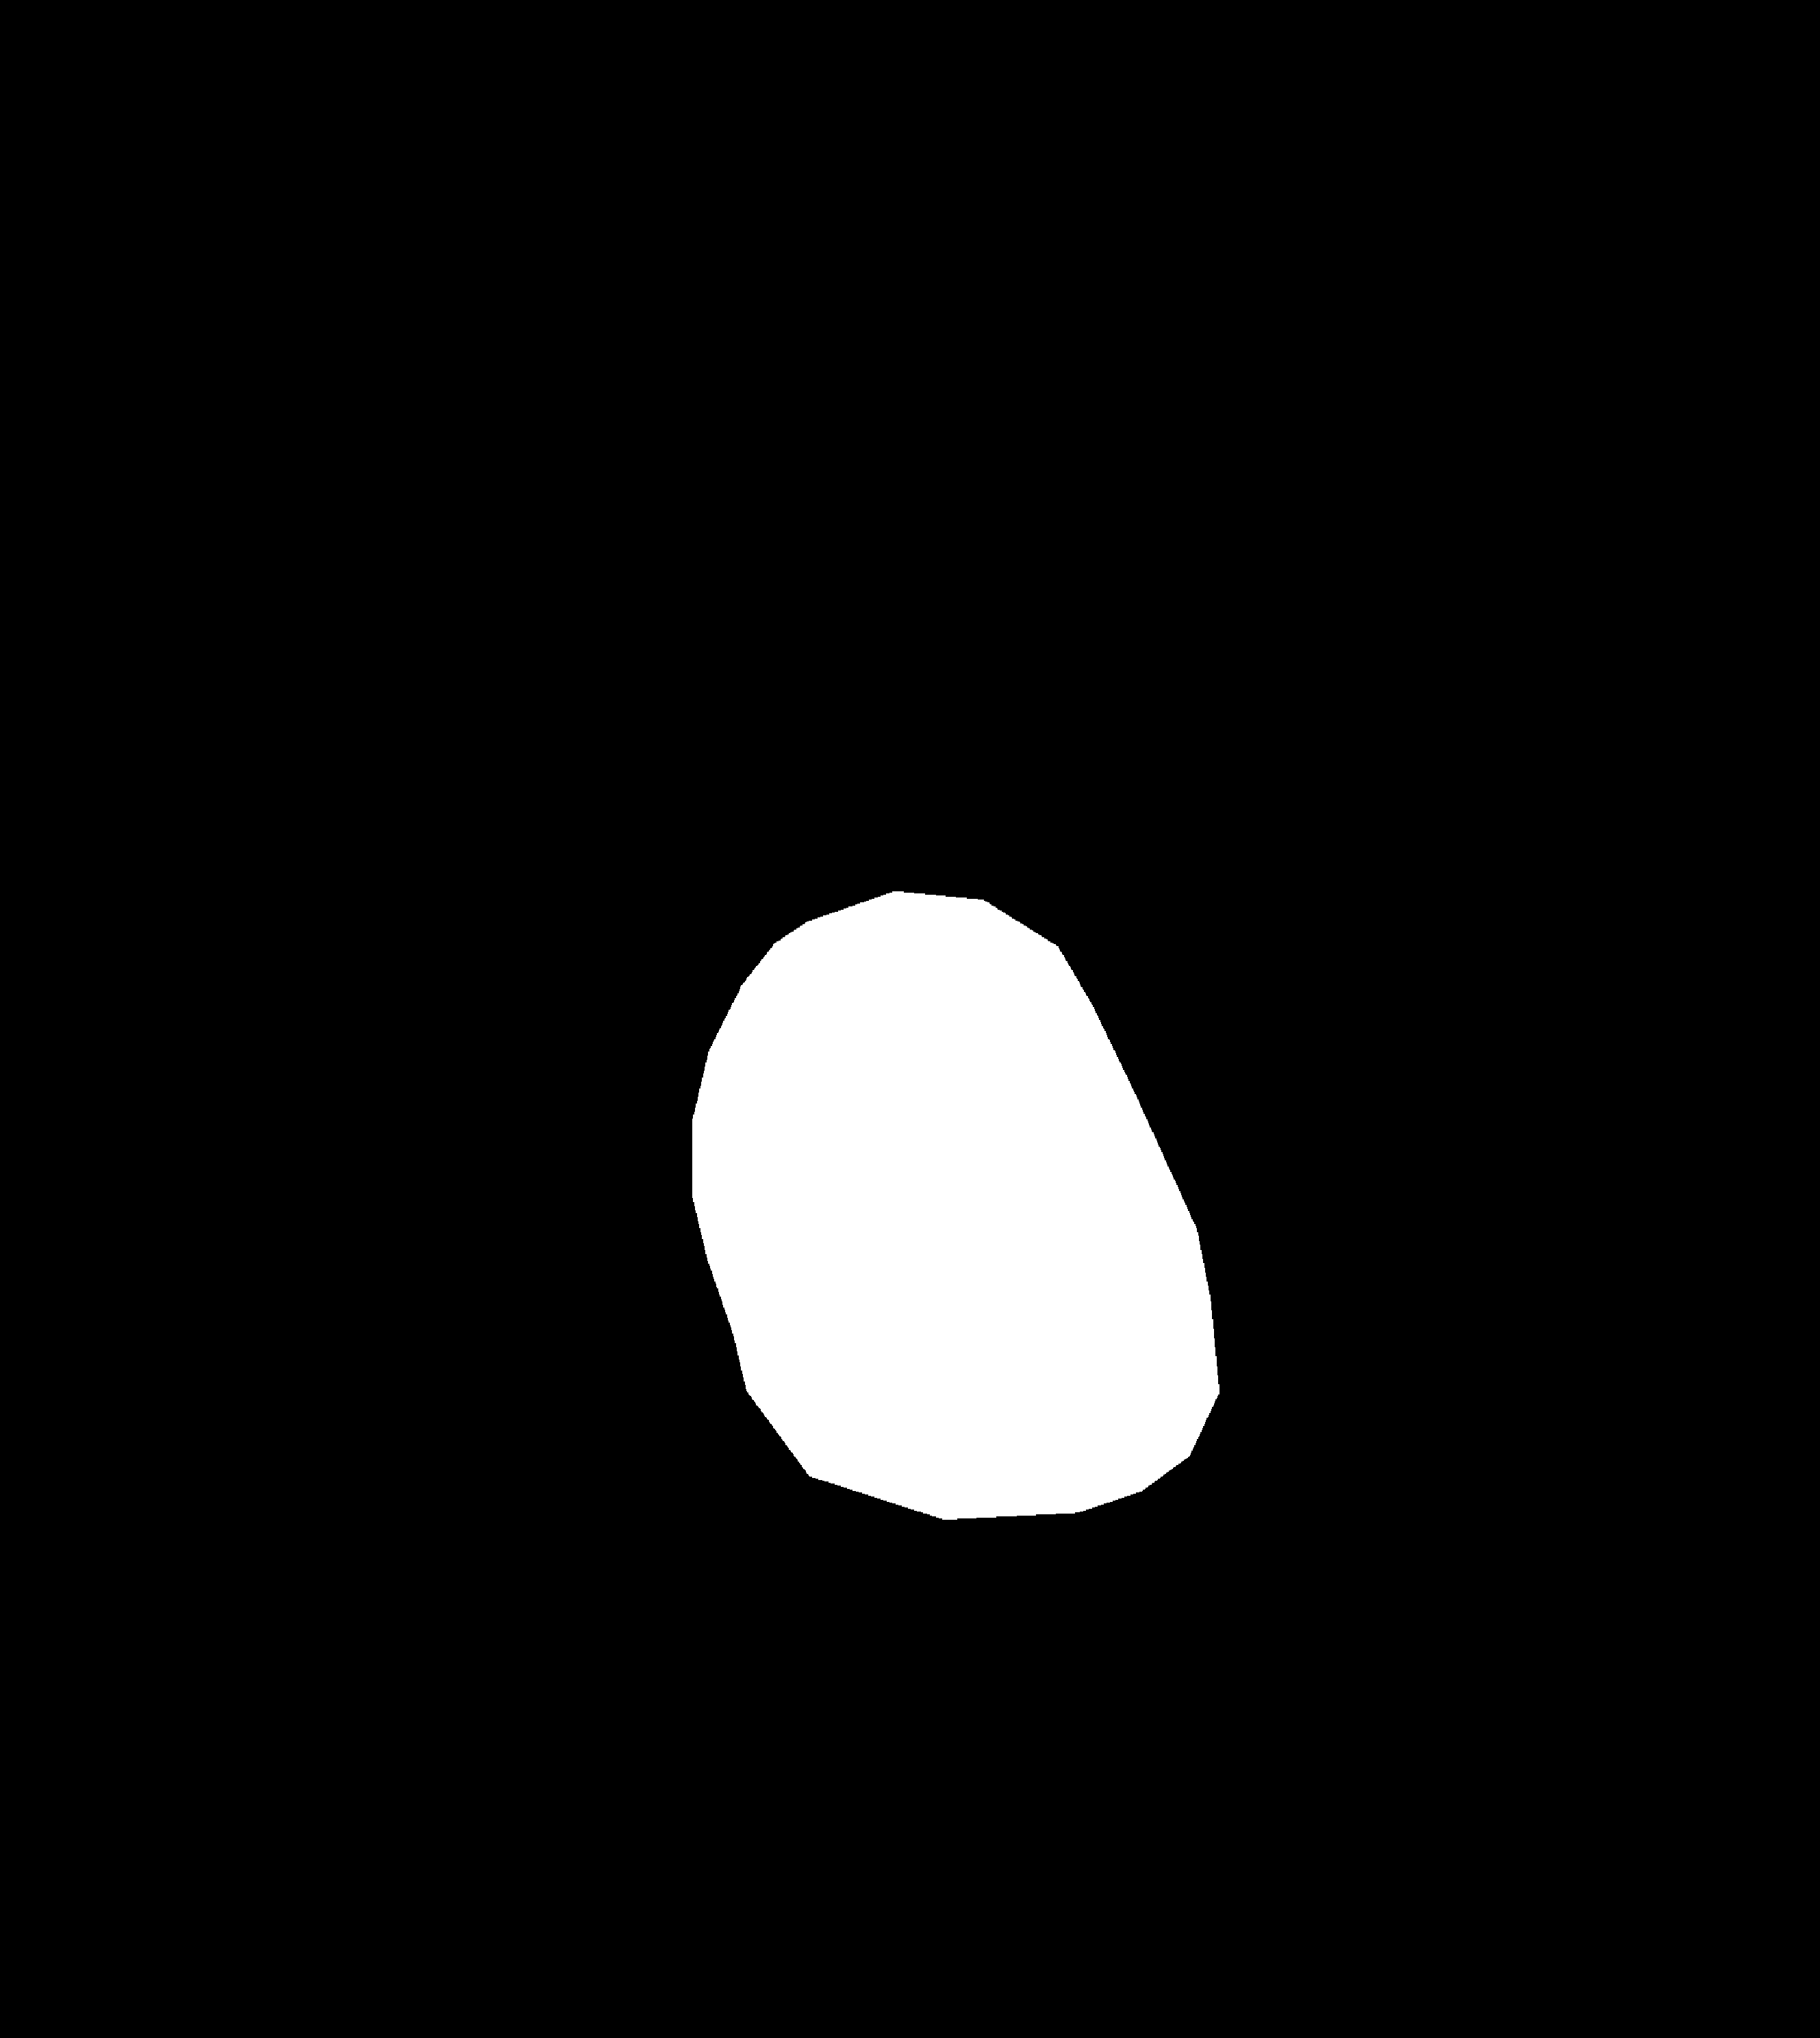heart: (690, 984, 1216, 1499)
left_lung: (181, 242, 787, 1778)
right_lung: (956, 188, 1592, 1766)
